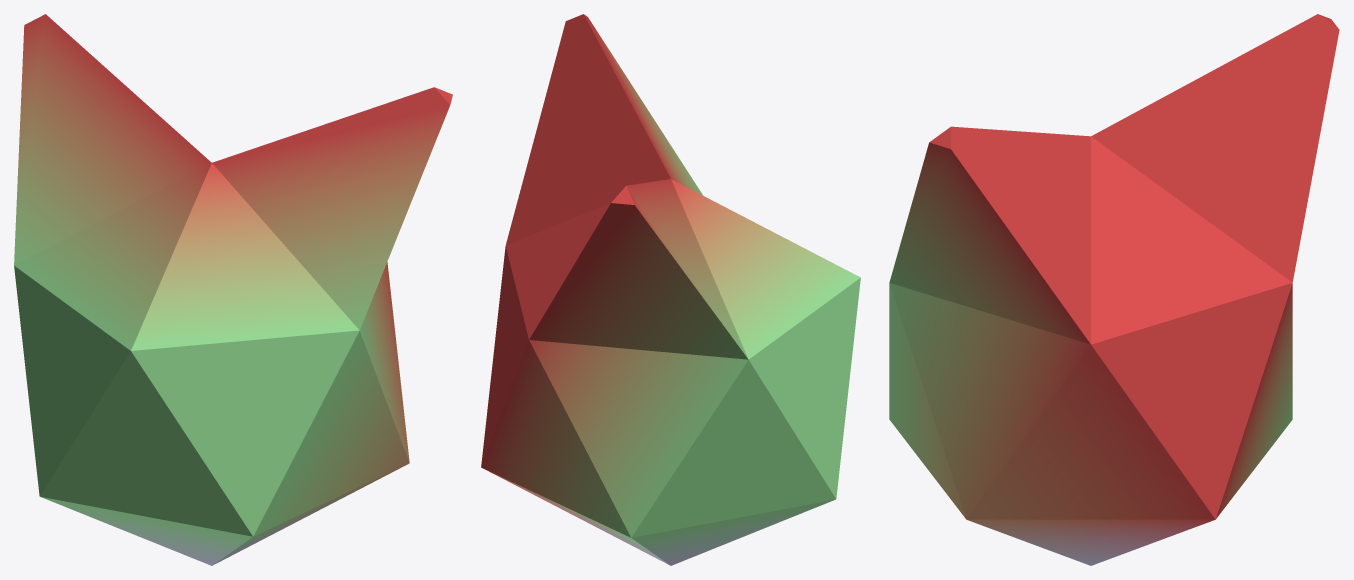
The model's file is cat.glb.
3 renders of one model, left to right at view 1: azimuth 30°, elevation 25°; view 2: azimuth 150°, elevation 25°; view 3: azimuth 270°, elevation 25°, orthographic. The views are drawn at different scales.
Parts seen in each view (by area): view 1: cat; view 2: cat; view 3: cat.
Part boxes in pixels (left/top/right/bottom): cat: left=14, top=14, right=452, bottom=565; cat: left=481, top=14, right=860, bottom=565; cat: left=889, top=14, right=1339, bottom=565.
Size of the model in its own units: 0.2256 by 0.3031 by 0.2374.
